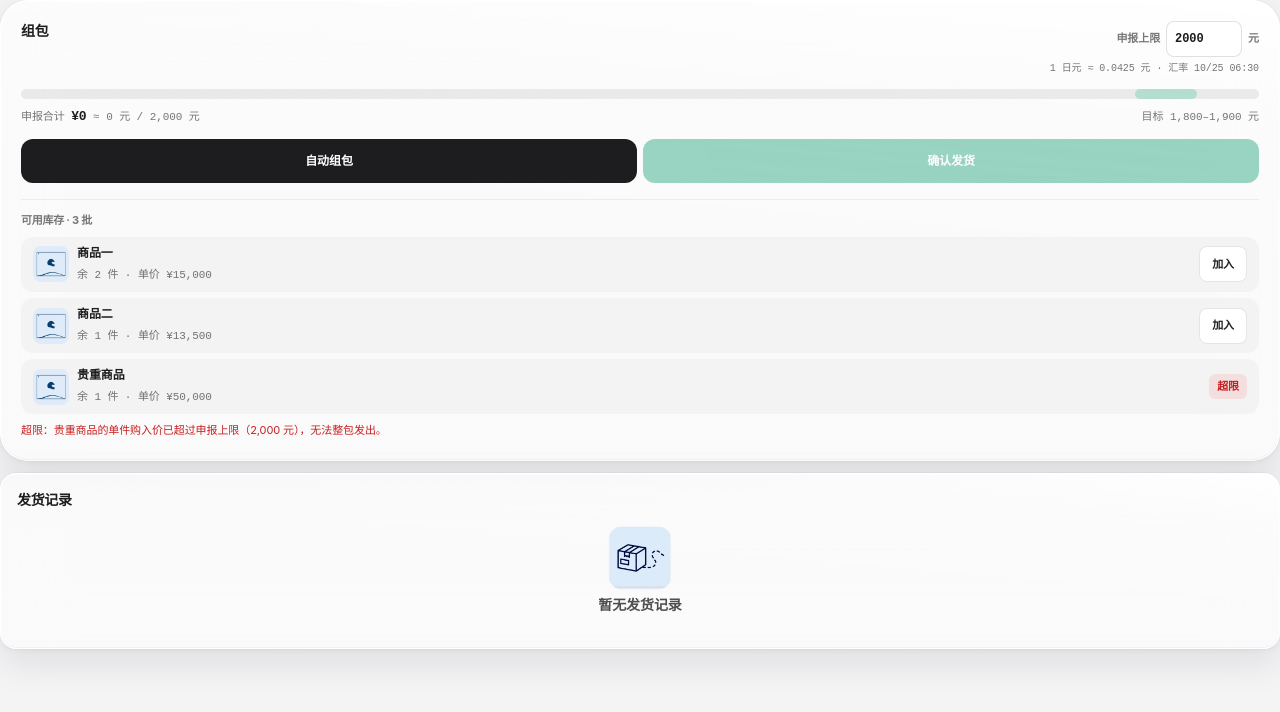
ShippingWorkspace › keeps the receipt when the post-confirm refresh fails
Step 1. Click the button "自动组包" → click(329, 161), box [21,139,637,183]
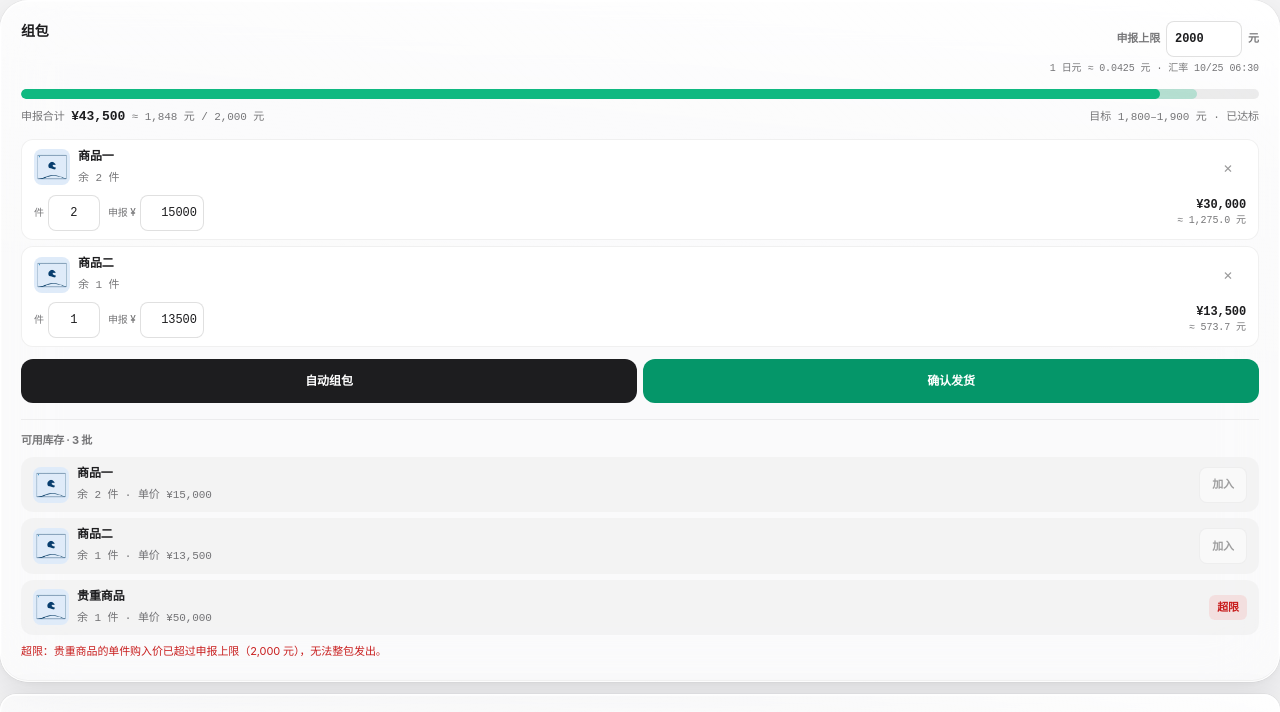
Step 2. Click the button "确认发货" → click(951, 381), box [643,359,1259,403]
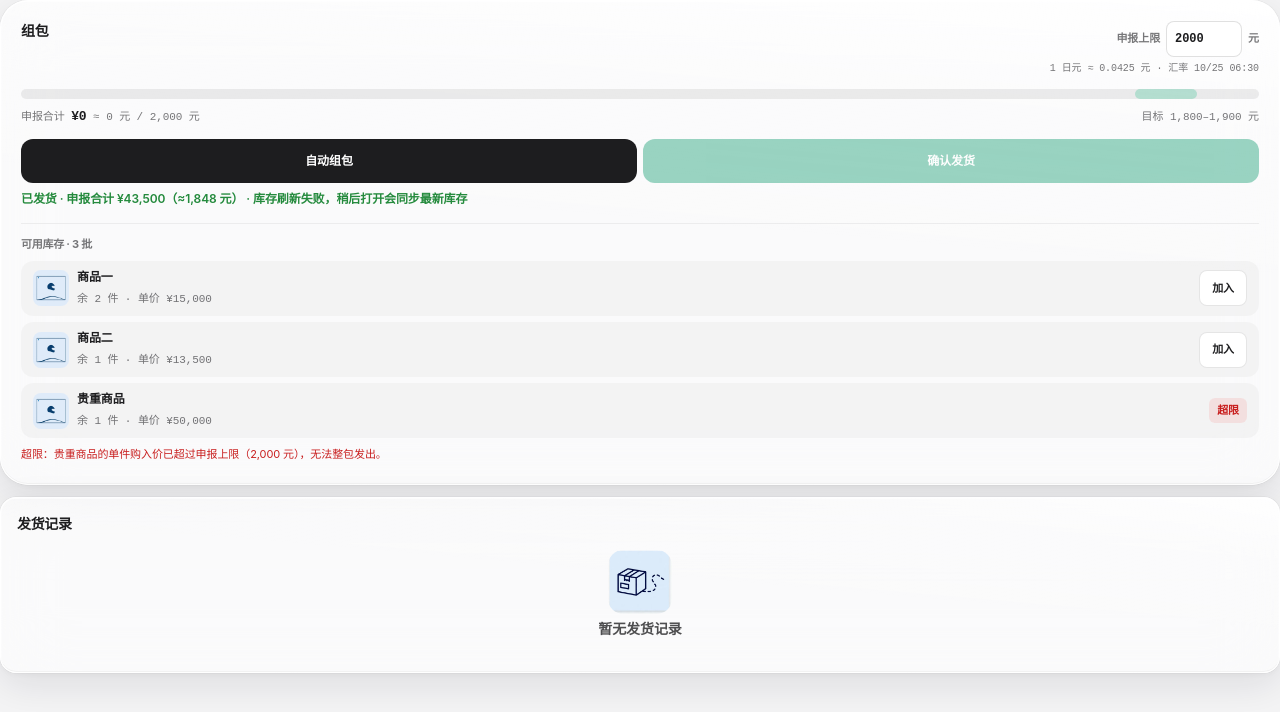
Expected: the text "组包" is shown, [21,21,48,41]
Expected: the text "已发货" is shown, [21,191,467,206]
Expected: the text "库存刷新失败" is shown, [21,191,467,206]
